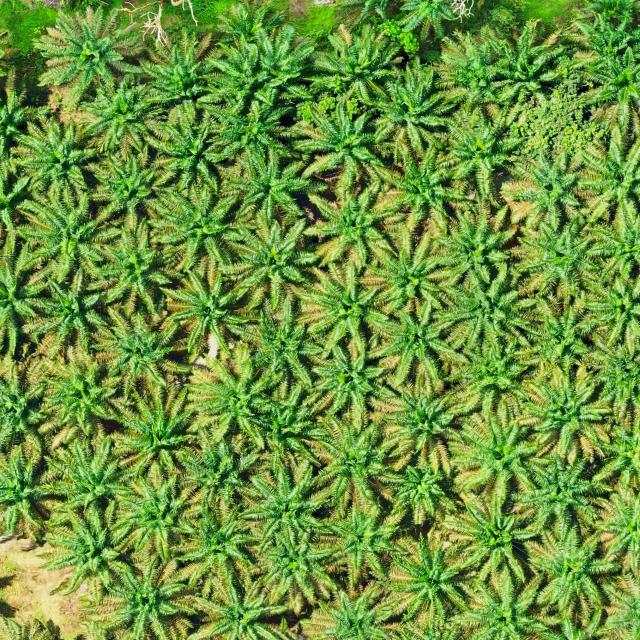Tree: (31, 0, 149, 106), (363, 298, 474, 399), (143, 180, 258, 276), (220, 299, 326, 403), (376, 373, 482, 477), (78, 551, 201, 640), (183, 350, 289, 453), (444, 401, 546, 506), (281, 97, 390, 195), (160, 266, 266, 366), (228, 215, 328, 320), (168, 426, 267, 531), (519, 365, 620, 467), (46, 502, 152, 598), (83, 220, 181, 321), (303, 179, 406, 275), (13, 182, 113, 280), (436, 264, 546, 353), (508, 449, 614, 538), (367, 59, 463, 157), (430, 103, 523, 204), (244, 526, 348, 616), (216, 144, 322, 232), (509, 286, 611, 377), (524, 524, 622, 618), (361, 224, 458, 318), (32, 358, 130, 451), (426, 196, 527, 286), (34, 432, 135, 522), (446, 493, 544, 585), (114, 387, 207, 482), (296, 262, 387, 359), (514, 214, 612, 304), (232, 463, 332, 551), (12, 115, 106, 208), (17, 262, 108, 358), (92, 306, 190, 395), (0, 231, 62, 367), (308, 19, 403, 107), (318, 500, 404, 596), (376, 142, 472, 228), (448, 570, 565, 640), (119, 472, 208, 564), (150, 109, 240, 198), (310, 336, 400, 422), (134, 25, 216, 117), (485, 17, 569, 106), (392, 529, 474, 620), (245, 380, 331, 466), (304, 420, 392, 503), (166, 507, 262, 582), (86, 148, 176, 228), (439, 338, 534, 412), (82, 76, 166, 158), (577, 117, 640, 223), (181, 582, 292, 640), (374, 455, 460, 529), (505, 149, 584, 229), (435, 26, 507, 112), (577, 40, 640, 137), (0, 436, 55, 544), (251, 18, 318, 101), (223, 84, 296, 156), (204, 35, 276, 103), (315, 585, 395, 640), (396, 0, 461, 39)
